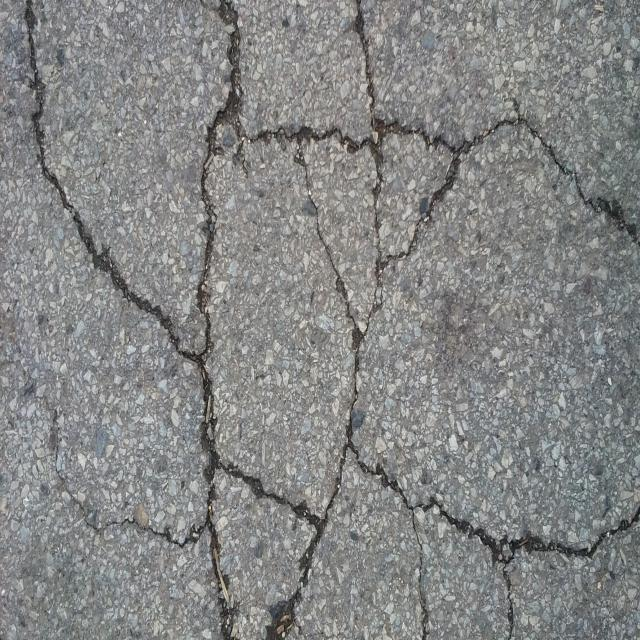Crack: (25, 0, 640, 640)
